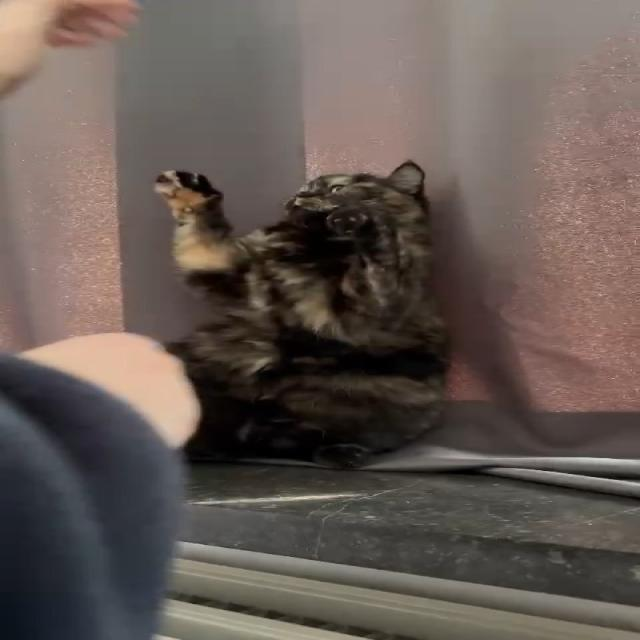authorized: (152, 159, 453, 469)
